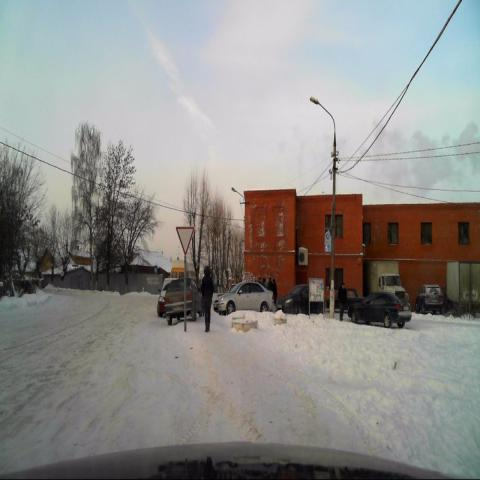2_4: (176, 226, 194, 256)
